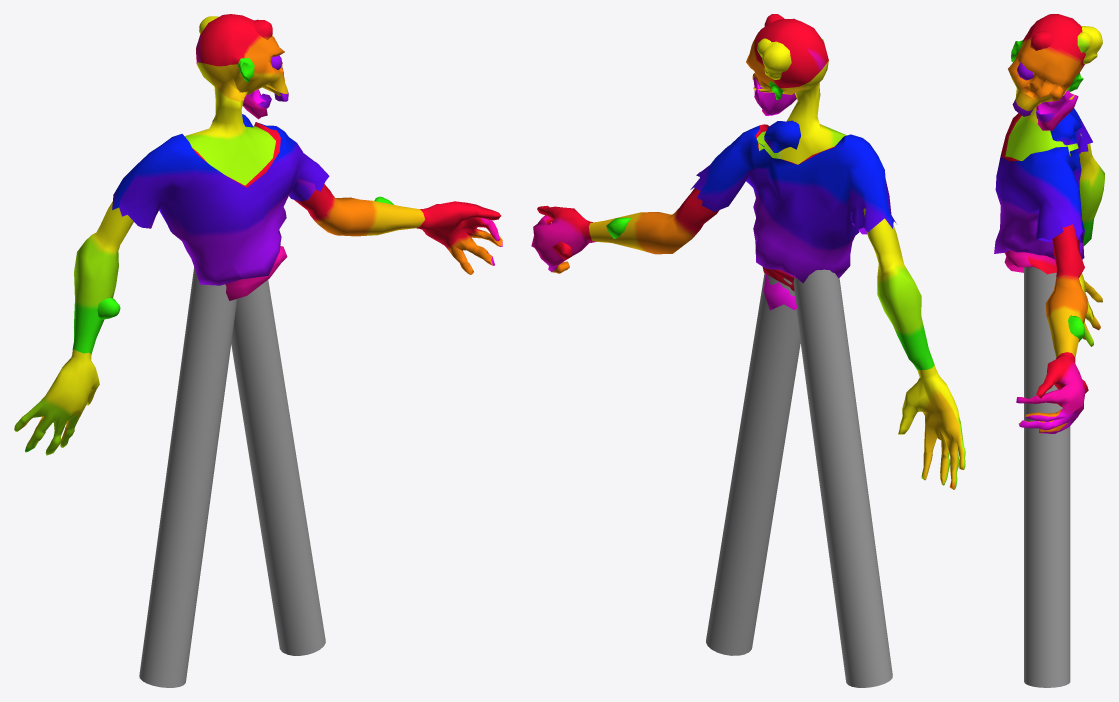
File: CH_NPC_Skull_01_19G4_1_19.fbx
3 views of the same model, side by side, from view 1: azimuth 30°, elevation 25°; view 2: azimuth 150°, elevation 25°; view 3: azimuth 270°, elevation 25° (orthographic).
Parts seen in each view (by area): view 1: EN_P_Corpse_01_17G4; view 2: EN_P_Corpse_01_17G4; view 3: EN_P_Corpse_01_17G4.
Part boxes in pixels (bbox=[...]): EN_P_Corpse_01_17G4: bbox=[14, 14, 502, 687]; EN_P_Corpse_01_17G4: bbox=[531, 14, 965, 687]; EN_P_Corpse_01_17G4: bbox=[994, 14, 1104, 687].
Size of the model in its own units: 122 by 165 by 25.99.
